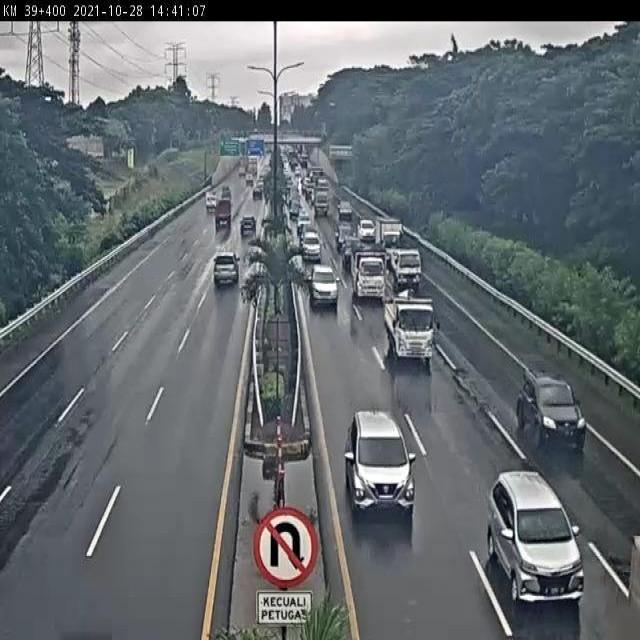car: (485, 469, 587, 604), (343, 409, 414, 511), (515, 367, 588, 453), (310, 265, 339, 308)
mid truck: (212, 251, 240, 289)
truck-m-: (384, 296, 436, 365), (350, 246, 387, 302)
truck-s-: (391, 247, 423, 288)
